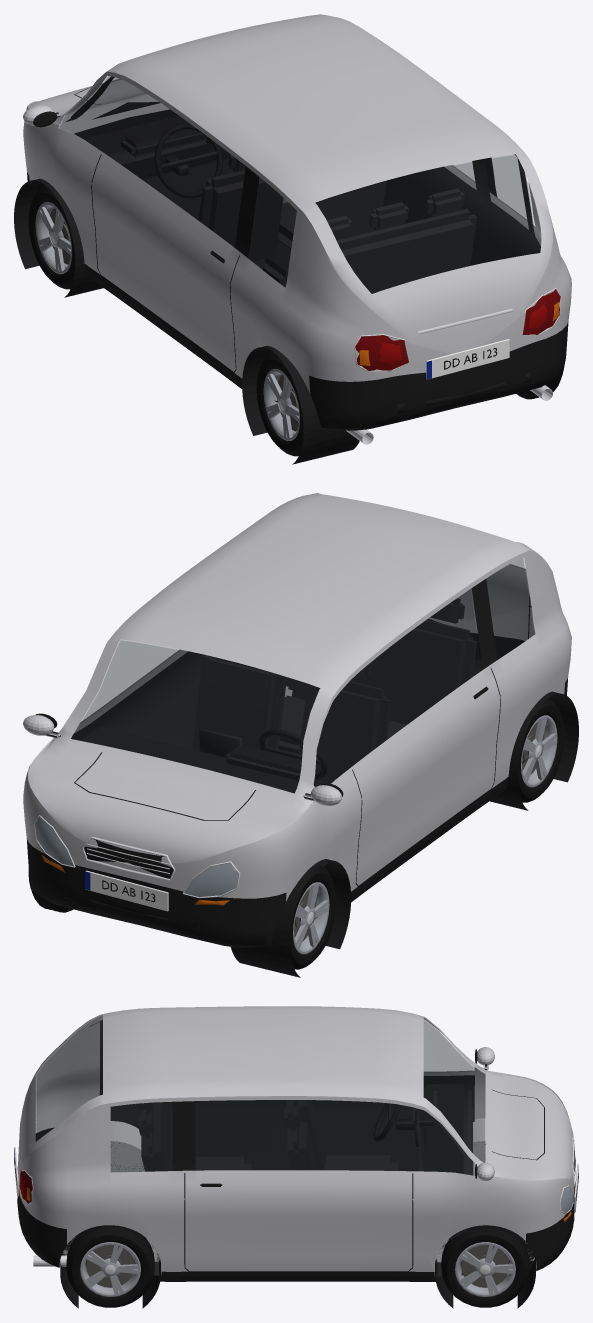
The model's file is citycar.glb.
3 renders of one model, top to bottom at view 1: azimuth 30°, elevation 25°; view 2: azimuth 150°, elevation 25°; view 3: azimuth 270°, elevation 25°, orthographic. The views are drawn at different scales.
Visible parts, largest first — view 1: Body, Glass, Interior, Lights, Rim_FL, Rim_RL, Tire_RL, Tire_FL; view 2: Body, Glass, Interior, Lights, Rim_FL, Rim_RL, Tire_RL, Tire_FL; view 3: Body, Glass, Interior, Tire_RR, Tire_FR, Rim_FR, Rim_RR, Lights.
Part boxes in pixels (bbox=[...]): Body: bbox=[14, 14, 571, 464]; Glass: bbox=[60, 76, 540, 293]; Interior: bbox=[65, 76, 540, 405]; Lights: bbox=[63, 119, 560, 370]; Rim_FL: bbox=[35, 202, 71, 274]; Rim_RL: bbox=[263, 369, 299, 440]; Tire_RL: bbox=[256, 352, 303, 456]; Tire_FL: bbox=[28, 185, 75, 289]; Body: bbox=[23, 493, 578, 977]; Glass: bbox=[72, 558, 533, 792]; Interior: bbox=[71, 598, 528, 921]; Lights: bbox=[35, 606, 531, 905]; Rim_FL: bbox=[293, 882, 329, 954]; Rim_RL: bbox=[521, 715, 557, 787]; Tire_RL: bbox=[517, 698, 564, 802]; Tire_FL: bbox=[290, 865, 336, 969]; Body: bbox=[14, 1006, 578, 1308]; Glass: bbox=[37, 1016, 484, 1175]; Interior: bbox=[89, 1020, 474, 1276]; Tire_RR: bbox=[66, 1225, 154, 1307]; Tire_FR: bbox=[441, 1225, 529, 1307]; Rim_FR: bbox=[455, 1242, 515, 1296]; Rim_RR: bbox=[80, 1242, 140, 1296]; Lights: bbox=[19, 1170, 573, 1221].
Size of the model in its own units: 1.94 by 1.54 by 3.65.
